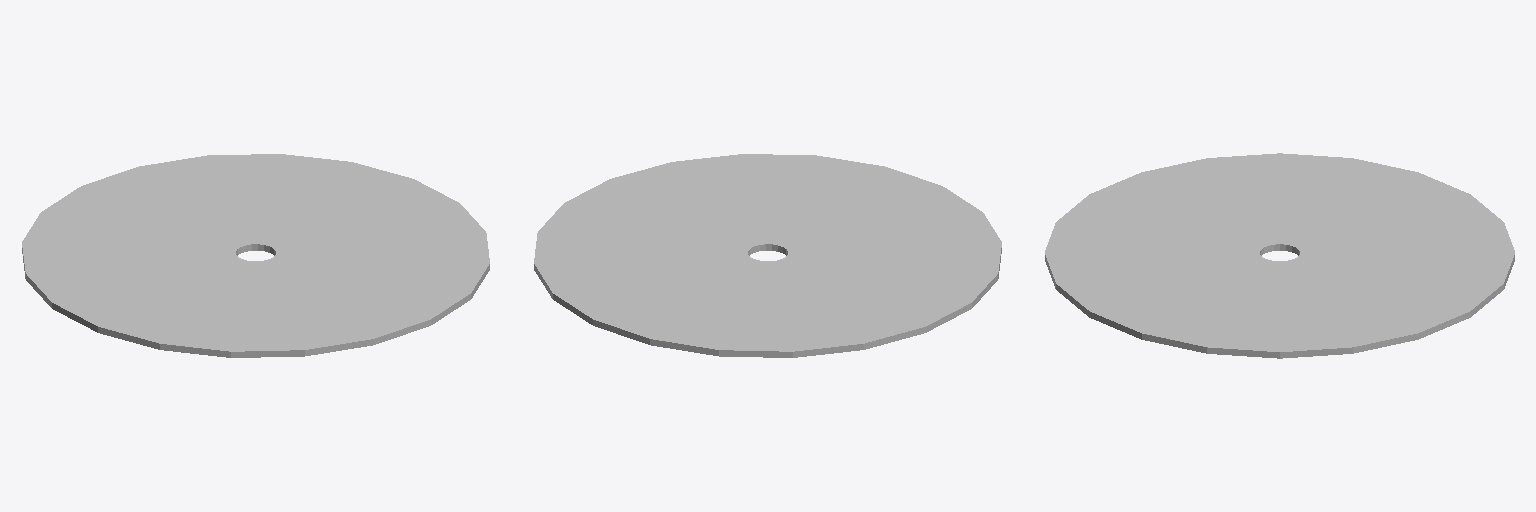
File: DefaultDisc.obj
The picture shows the model from 3 angles: view 1: azimuth 30°, elevation 25°; view 2: azimuth 150°, elevation 25°; view 3: azimuth 270°, elevation 25°; orthographic projection.
Parts seen in each view (by area): view 1: Circle; view 2: Circle; view 3: Circle.
Boxes of the visible parts, box(x1,y1,x2,y2) form: Circle: box(22, 154, 489, 357); Circle: box(534, 154, 1001, 357); Circle: box(1045, 153, 1514, 358).
Bounding box in the file's own units: 0.947 × 0.0141 × 0.947.